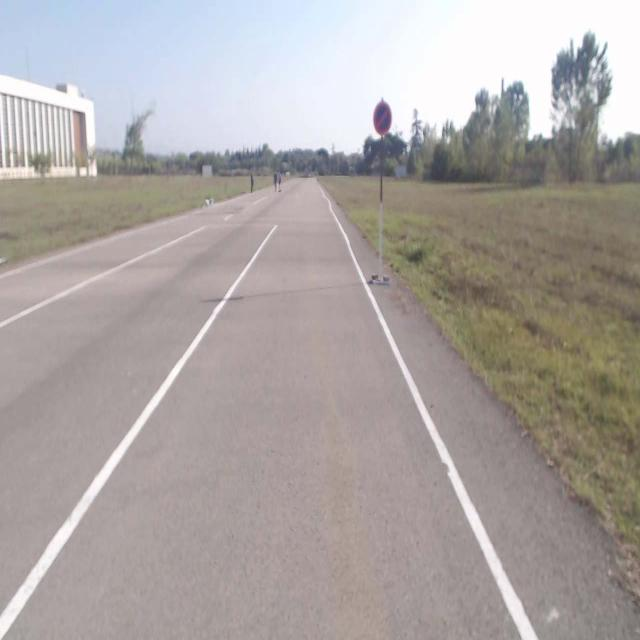parkyasak: (374, 102, 392, 134)
